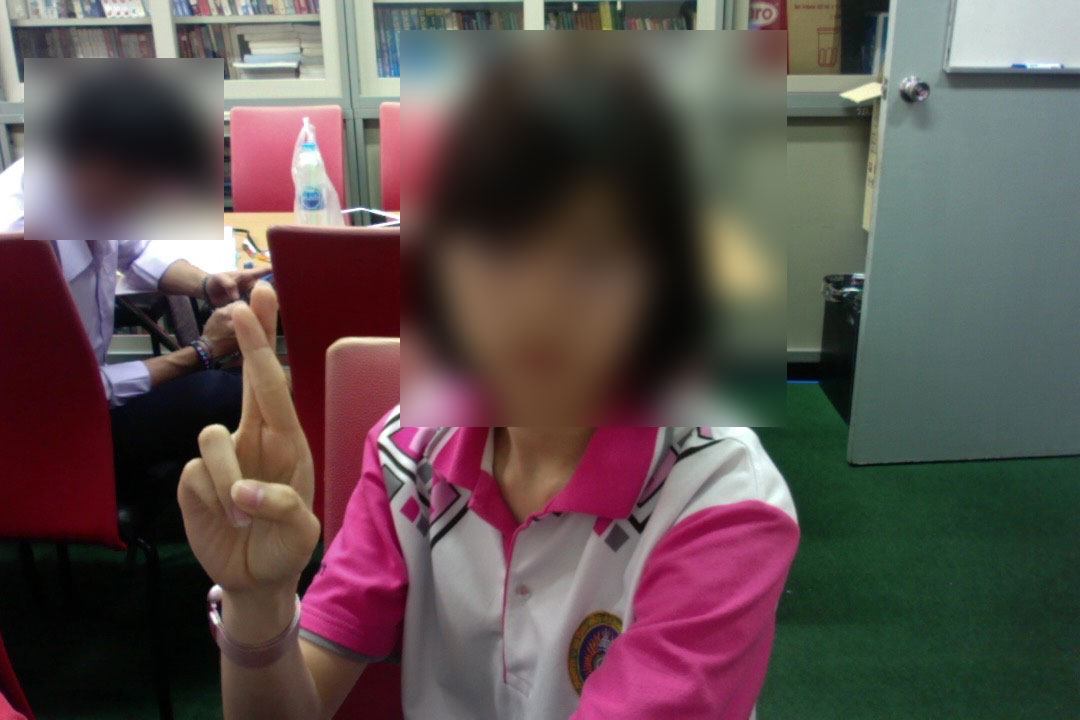rao: (163, 277, 336, 605)
